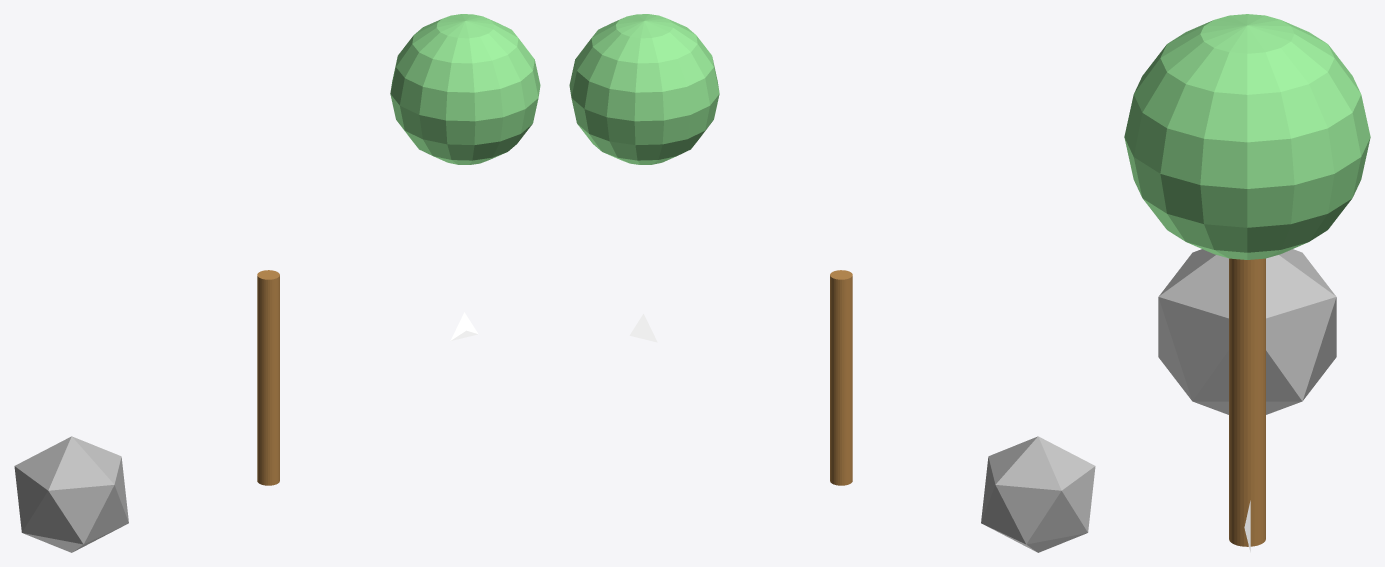
File: obstacles.glb
3 renders of one model, left to right at view 1: azimuth 30°, elevation 25°; view 2: azimuth 150°, elevation 25°; view 3: azimuth 270°, elevation 25°, orthographic. The views are drawn at different scales.
Parts seen in each view (by area): view 1: Tree_Leaves, Rock, Tree_Trunk; view 2: Tree_Leaves, Rock, Tree_Trunk; view 3: Tree_Leaves, Rock, Tree_Trunk.
Boxes of the visible parts, x1,y1,x2,y2 form: Tree_Leaves: (390, 14, 540, 164); Rock: (14, 436, 128, 552); Tree_Trunk: (257, 270, 279, 485); Tree_Leaves: (569, 14, 719, 164); Rock: (981, 436, 1095, 552); Tree_Trunk: (830, 270, 852, 485); Tree_Leaves: (1124, 14, 1370, 259); Rock: (1158, 249, 1336, 414); Tree_Trunk: (1229, 258, 1265, 546).
Size of the model in its own units: 7.76 by 6.35 by 2.
